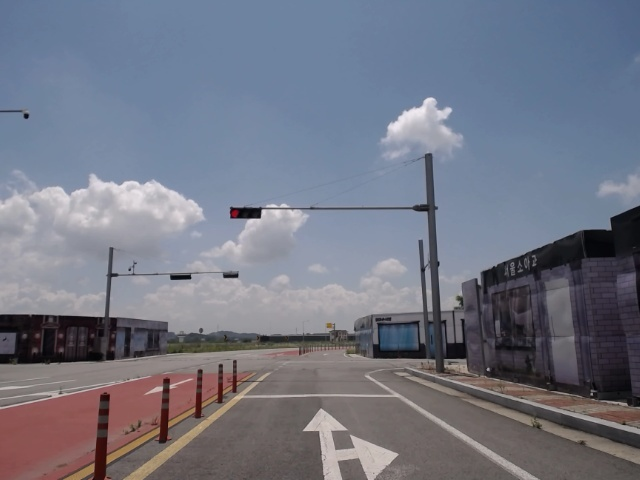red_3: (228, 205, 265, 222)
